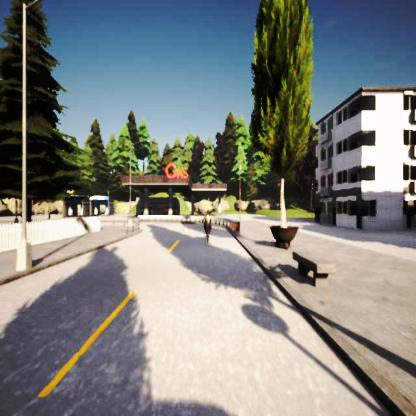motobike: (202, 213, 212, 237)
